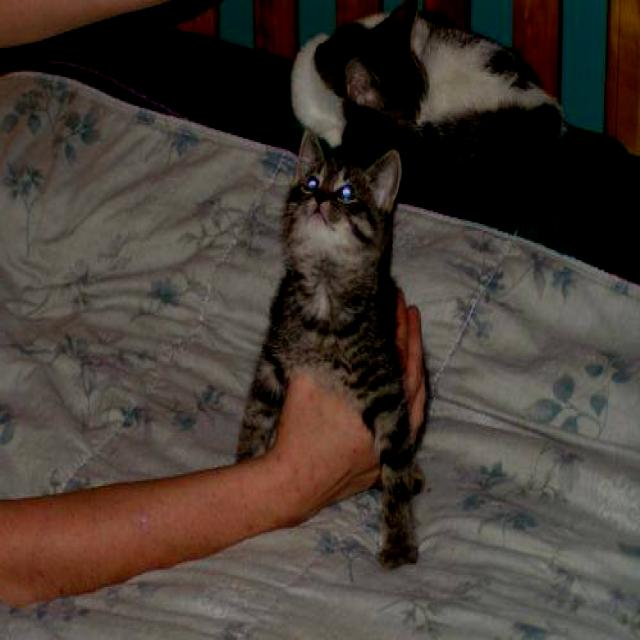Kucing: (210, 147, 422, 498), (261, 0, 568, 137)
